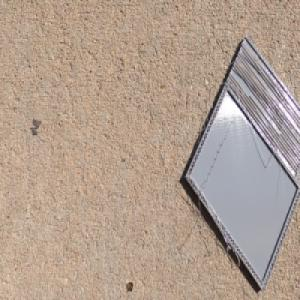PlasticPart: (183, 35, 300, 293)
